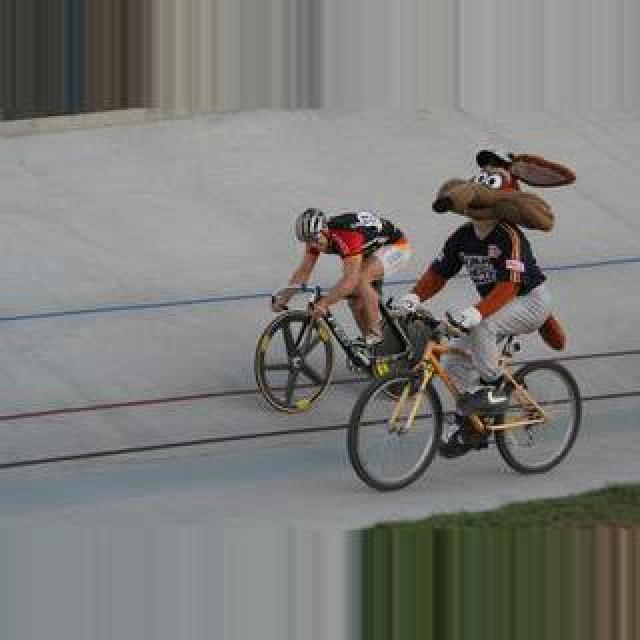MC-Bike: (406, 156, 568, 444), (272, 208, 414, 364)
Person: (347, 303, 583, 487), (258, 282, 438, 410)
